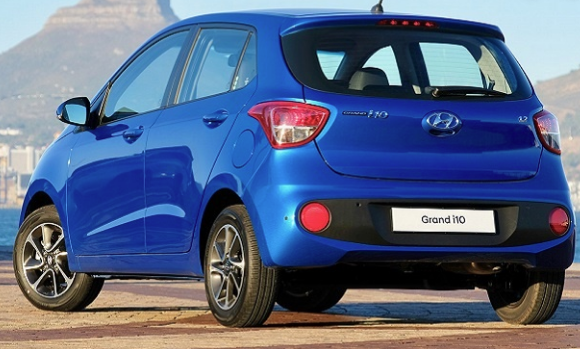car: (14, 9, 577, 332)
